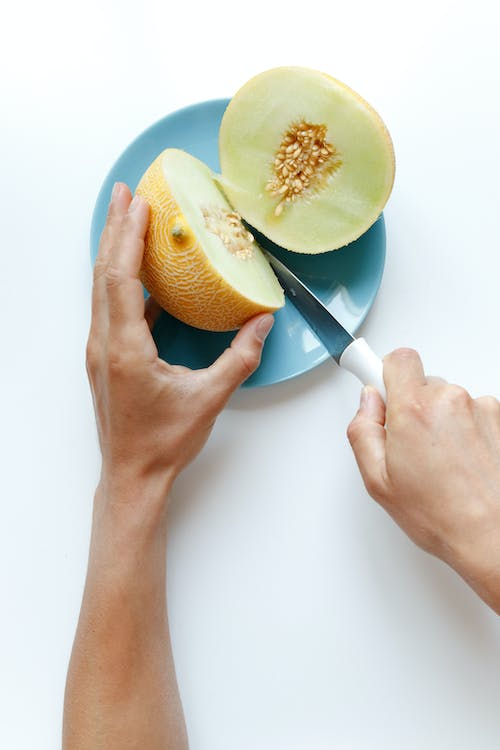knife: (259, 246, 388, 401)
